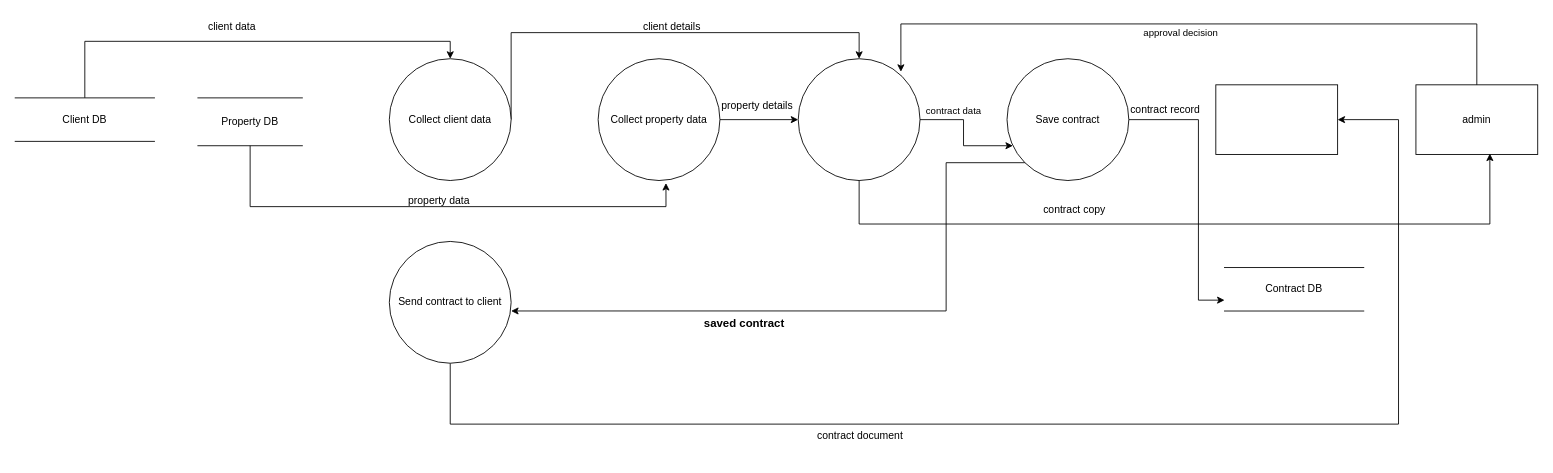
The diagram is 1553 pixels wide and 473 high, and some of its shapes have lost their labels. The shapes that lost their labels are listed below. From the top down, each one's centre as x and y in pixels, then its label:
At (858,119): "Create contract".
At (1276,119): "client".
